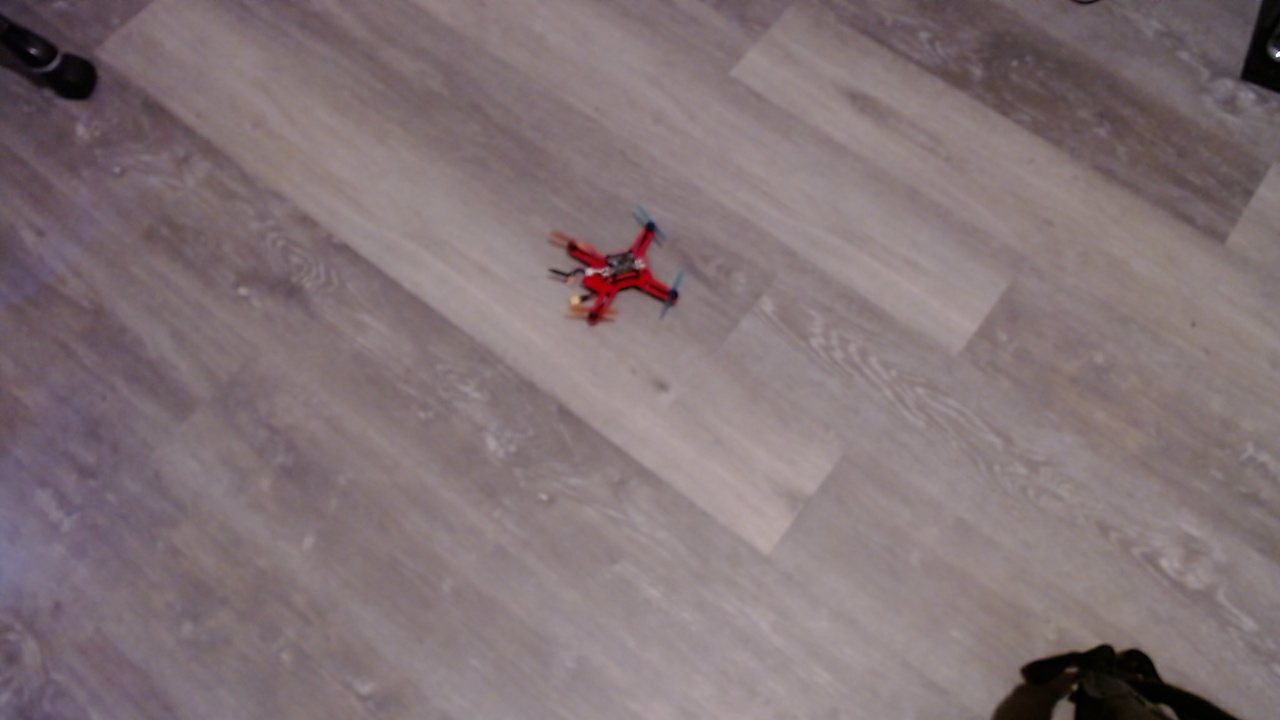crazyflie: (550, 211, 703, 333)
